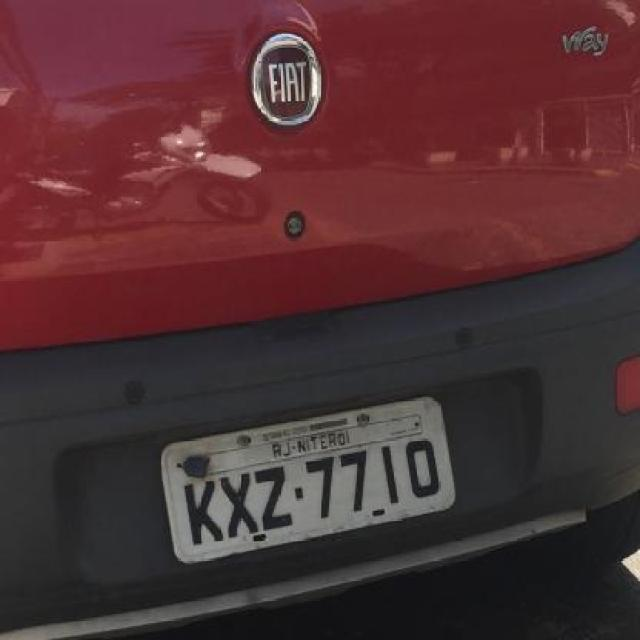old_plate: (154, 389, 461, 573)
